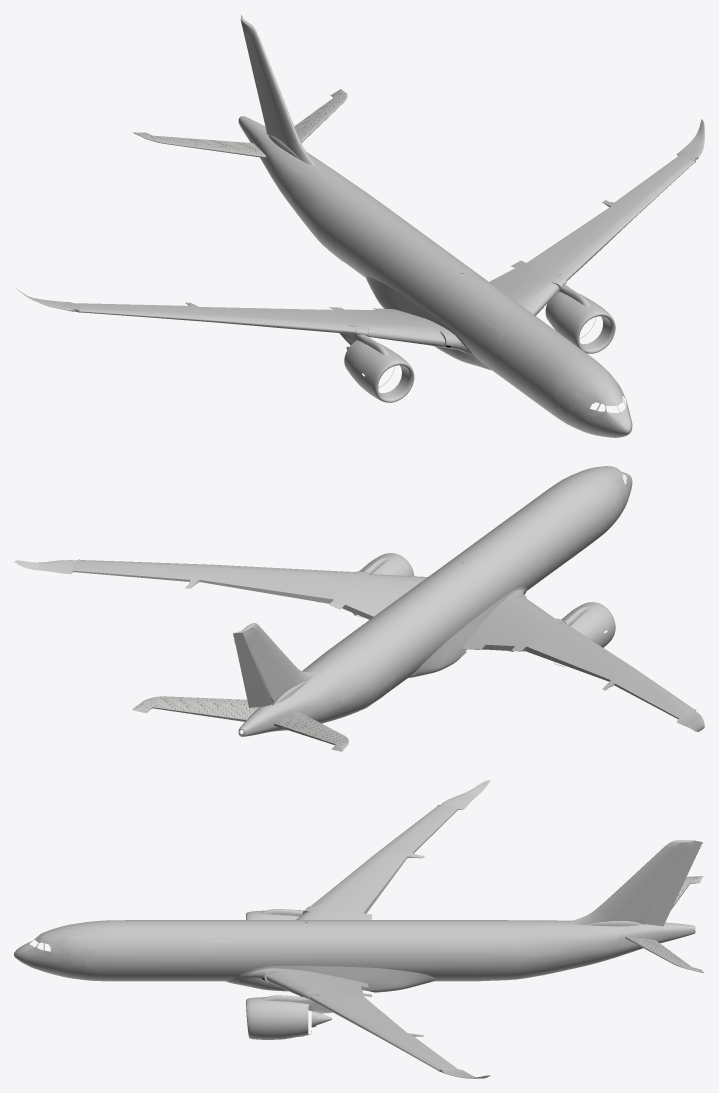
Rendered from A330NEO_LOD03.gltf.
The picture shows the model from 3 angles, top to bottom: view 1: azimuth 30°, elevation 25°; view 2: azimuth 150°, elevation 25°; view 3: azimuth 270°, elevation 25°; orthographic projection. The views are drawn at different scales.
Parts seen in each view (by area): view 1: node2, node15.003, node15.006, node2.001, node19.001, node19.002, node147.002, axis_trim_l; view 2: node2, node15.006, node15.003, node2.001, axis_trim_l, axis_rudder, node19.001, node147.002, node19.002; view 3: node2, node15.003, node15.006, node2.001, node19.002, axis_rudder, REVERSE_LEFT, axis_trim_l, node19.001.
Boxes of the visible parts, x1=… form: node2: x1=238, y1=116, x2=632, y2=437; node15.003: x1=16, y1=288, x2=470, y2=354; node15.006: x1=489, y1=119, x2=704, y2=315; node2.001: x1=241, y1=19, x2=315, y2=165; node19.001: x1=339, y1=333, x2=414, y2=402; node19.002: x1=555, y1=284, x2=615, y2=353; node147.002: x1=133, y1=132, x2=266, y2=158; axis_trim_l: x1=294, y1=89, x2=347, y2=142; node2: x1=238, y1=466, x2=632, y2=736; node15.006: x1=14, y1=559, x2=427, y2=619; node15.003: x1=461, y1=589, x2=704, y2=731; node2.001: x1=242, y1=623, x2=315, y2=705; axis_trim_l: x1=132, y1=696, x2=259, y2=721; axis_rudder: x1=233, y1=630, x2=272, y2=707; node19.001: x1=557, y1=602, x2=615, y2=665; node147.002: x1=274, y1=710, x2=348, y2=751; node19.002: x1=356, y1=553, x2=414, y2=616; node2: x1=14, y1=920, x2=695, y2=992; node15.003: x1=296, y1=780, x2=490, y2=919; node15.006: x1=244, y1=968, x2=490, y2=1078; node2.001: x1=566, y1=840, x2=694, y2=926; node19.002: x1=246, y1=995, x2=332, y2=1039; axis_rudder: x1=644, y1=840, x2=702, y2=926; REVERSE_LEFT: x1=283, y1=1001, x2=311, y2=1039; axis_trim_l: x1=625, y1=936, x2=704, y2=973; node19.001: x1=246, y1=909, x2=304, y2=919.
Size of the model in its own units: 63.72 by 15.59 by 63.03.
